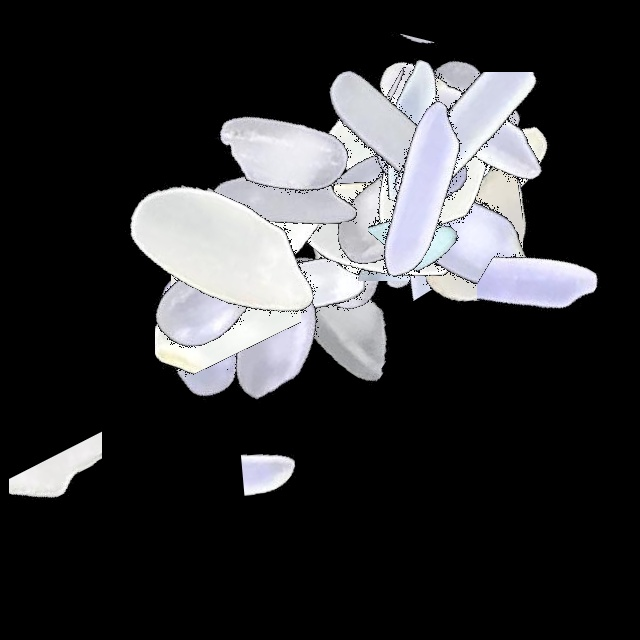Broken: (260, 59, 510, 232), (348, 0, 518, 250), (367, 72, 617, 239), (324, 91, 480, 341), (373, 100, 523, 350), (155, 150, 301, 400), (339, 82, 483, 332), (477, 179, 621, 429), (352, 84, 488, 334), (291, 153, 541, 281), (153, 173, 277, 423), (363, 23, 484, 273), (368, 81, 473, 331), (194, 113, 293, 363), (9, 382, 102, 632), (377, 0, 470, 250), (161, 421, 411, 509), (195, 185, 445, 269), (171, 129, 254, 379), (201, 117, 280, 367), (259, 31, 509, 110)
Full: (305, 49, 555, 299), (323, 59, 573, 309), (210, 188, 460, 438), (319, 0, 569, 250), (315, 106, 565, 356), (68, 213, 318, 463), (89, 181, 339, 431), (320, 0, 570, 250), (221, 114, 471, 364), (168, 162, 418, 412), (266, 77, 516, 327), (356, 69, 606, 319), (260, 75, 510, 325), (150, 215, 400, 465), (327, 0, 577, 250), (246, 69, 496, 319), (93, 139, 343, 389), (273, 105, 523, 355), (127, 95, 377, 345), (349, 119, 599, 369), (275, 84, 525, 334), (291, 29, 541, 279), (333, 0, 583, 250), (158, 74, 408, 324), (156, 29, 406, 279), (87, 175, 337, 425), (261, 0, 511, 250), (102, 123, 352, 373), (295, 64, 545, 314)
